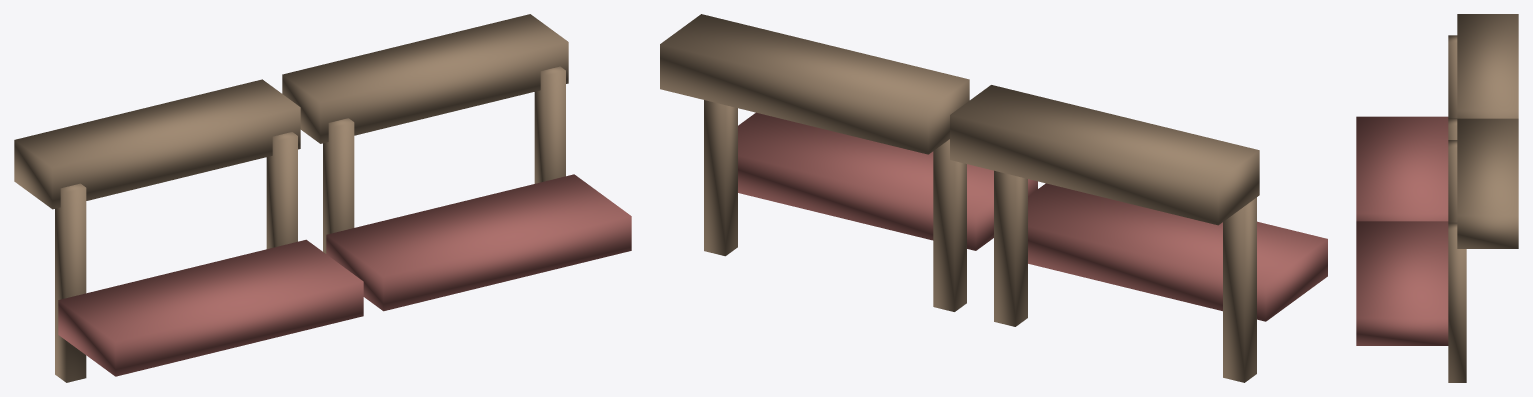
The model's file is prayer_kneeler__cluster.glb.
The picture shows the model from 3 angles, left to right: view 1: azimuth 30°, elevation 25°; view 2: azimuth 150°, elevation 25°; view 3: azimuth 270°, elevation 25°; orthographic projection. The views are drawn at different scales.
Visible parts, largest first — view 1: world; view 2: world; view 3: world.
Boxes of the visible parts, left/top/right/bottom form: world: left=14, top=14, right=631, bottom=382; world: left=660, top=14, right=1327, bottom=382; world: left=1356, top=14, right=1518, bottom=382.
Bounding box in the file's own units: 1.56 × 0.615 × 0.53.
